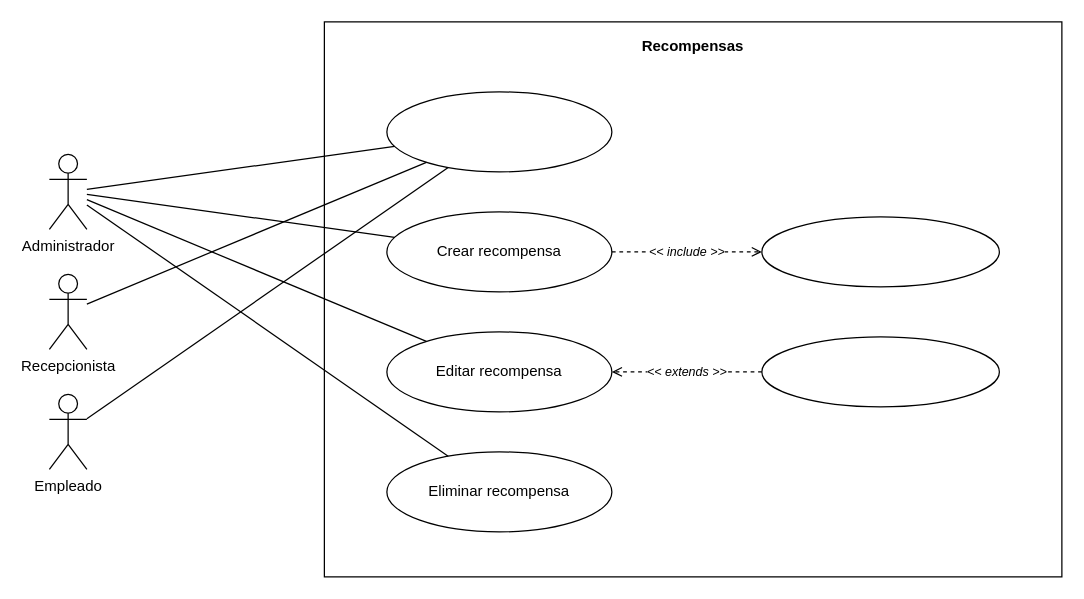
The diagram is 1084 pixels wide and 599 high, and some of its shapes have lost their labels. The shapes that lost their labels are listed below. From the top down, each one's centre as x and y in pixels, then its label:
point (499, 131): Listar recompensas
point (880, 251): Calcular valor en dinero
point (880, 371): Activar / desactivar recompensa
